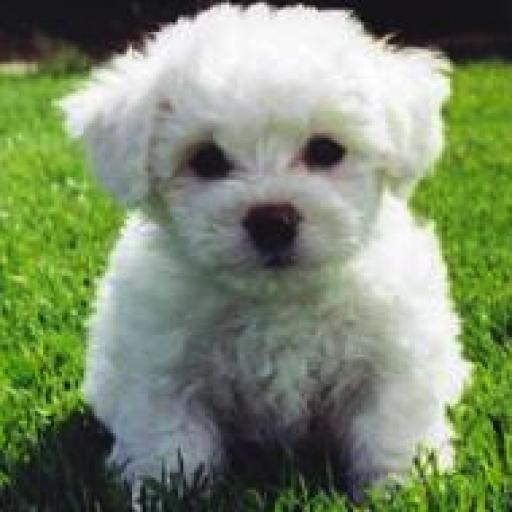dog_face: (61, 8, 446, 280)
